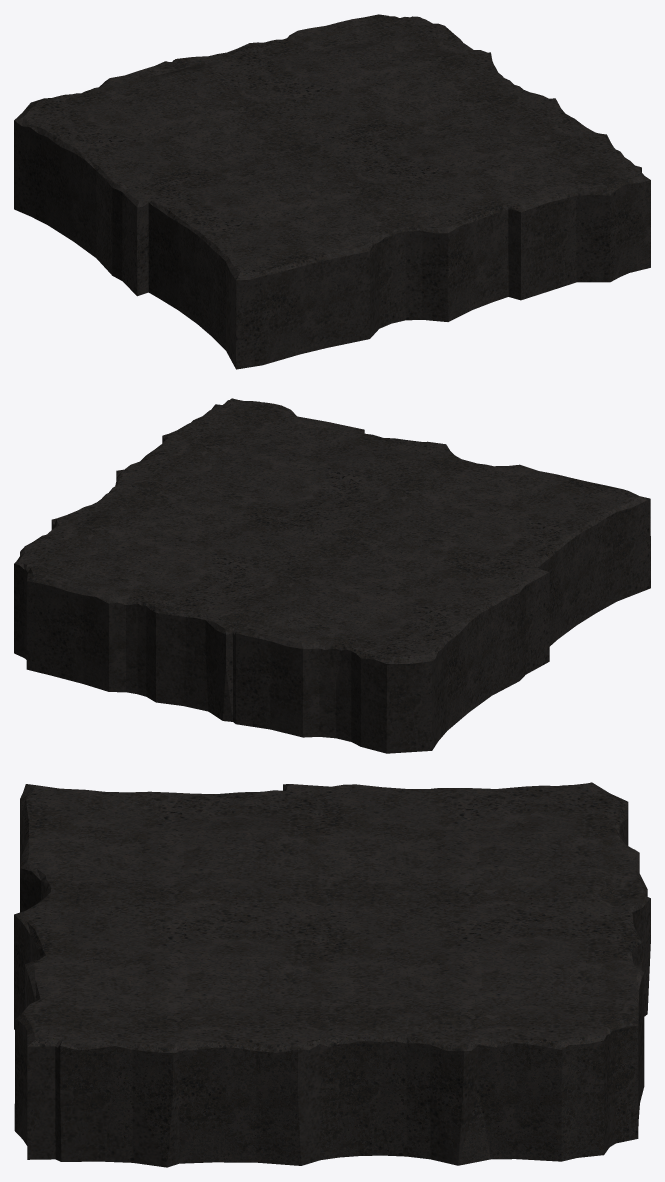
Rendered from TrapFloorL.fbx.
The picture shows the model from 3 angles, top to bottom: view 1: azimuth 30°, elevation 25°; view 2: azimuth 150°, elevation 25°; view 3: azimuth 270°, elevation 25°; orthographic projection. The views are drawn at different scales.
Parts seen in each view (by area): view 1: SM_ENV_NATURE_Cave_MovingFloor.mo; view 2: SM_ENV_NATURE_Cave_MovingFloor.mo; view 3: SM_ENV_NATURE_Cave_MovingFloor.mo.
Part boxes in pixels (x1,y1,x2,y2): SM_ENV_NATURE_Cave_MovingFloor.mo: (14, 14, 650, 369); SM_ENV_NATURE_Cave_MovingFloor.mo: (14, 398, 650, 753); SM_ENV_NATURE_Cave_MovingFloor.mo: (14, 782, 650, 1167).
Size of the model in its own units: 505 by 106 by 502.
2 materials, 2 textured.
